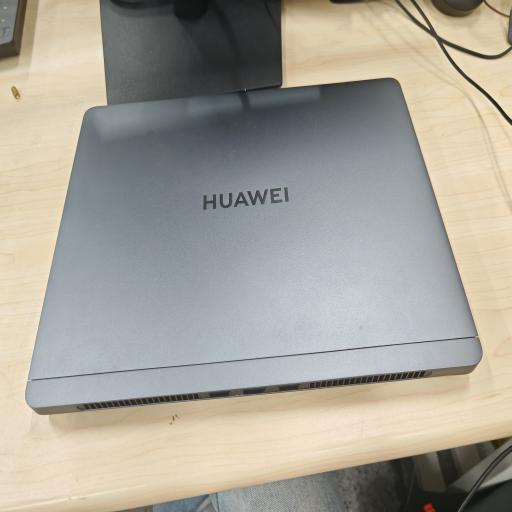laptop: (26, 78, 482, 414)
mouse: (432, 0, 483, 16)
